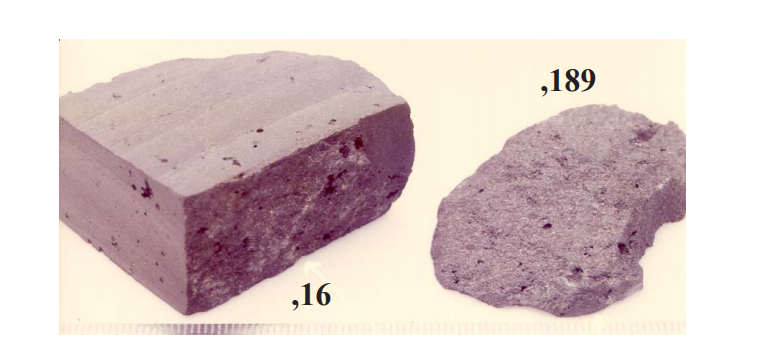Basalt: (58, 41, 424, 321), (427, 96, 682, 317)
